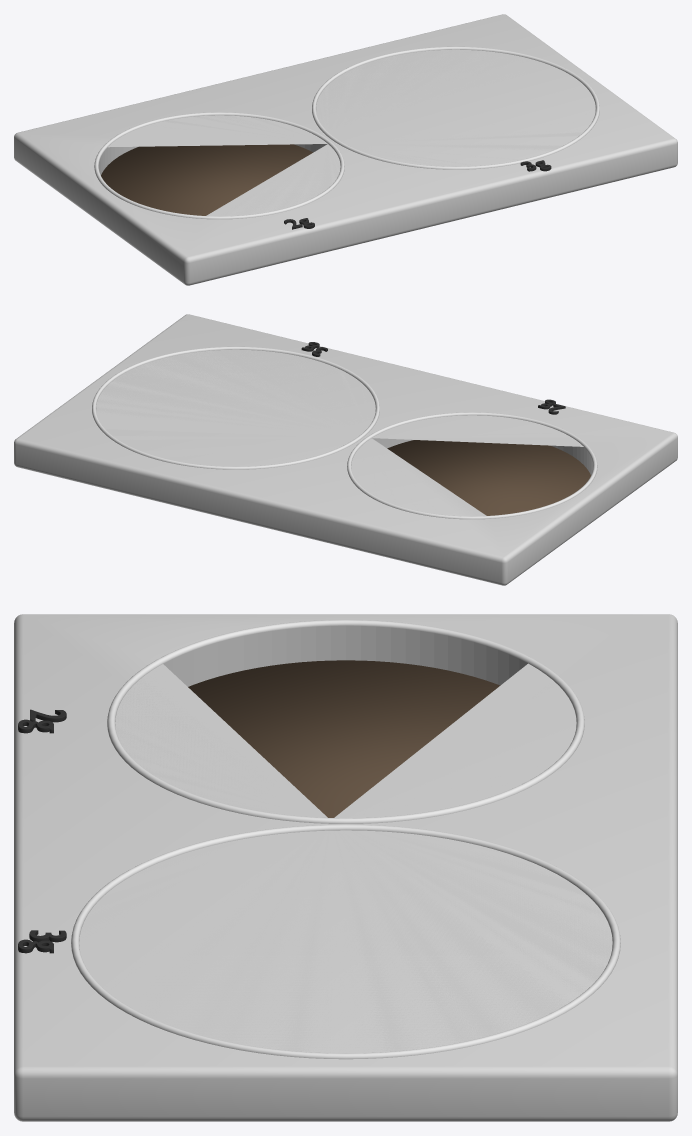
Rendered from weightboxsusulan.fbx.
3 views of the same model, one above another, from view 1: azimuth 30°, elevation 25°; view 2: azimuth 150°, elevation 25°; view 3: azimuth 270°, elevation 25° (orthographic). The views are drawn at different scales.
Parts seen in each view (by area): view 1: Wadah, Felt2, Rim3, Rim2; view 2: Wadah, Felt2, Rim3, Rim2; view 3: Wadah, Felt2, Rim3, Rim2, Lbl_3g, Lbl_2g.
Part boxes in pixels (x1,y1,x2,y2): Wadah: (14,14,677,285); Felt2: (101,144,312,215); Rim3: (312,46,599,169); Rim2: (94,112,344,219); Wadah: (14,314,677,585); Felt2: (387,440,590,515); Rim3: (92,346,379,469); Rim2: (347,412,597,519); Wadah: (14,614,677,1121); Felt2: (188,660,500,817); Rim3: (71,824,620,1059); Rim2: (107,620,584,823); Lbl_3g: (18,930,66,953); Lbl_2g: (18,709,66,733).
Size of the model in its own units: 211 by 12.58 by 129.
